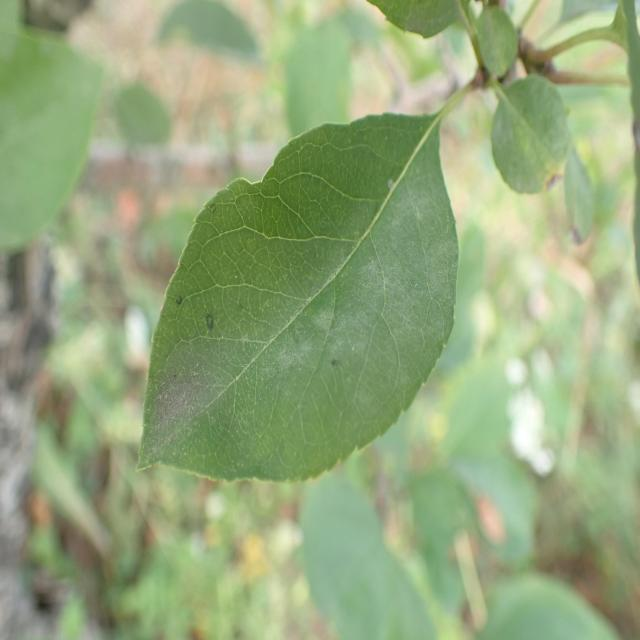Powdery_mildew: (140, 111, 452, 478), (582, 430, 600, 448)
